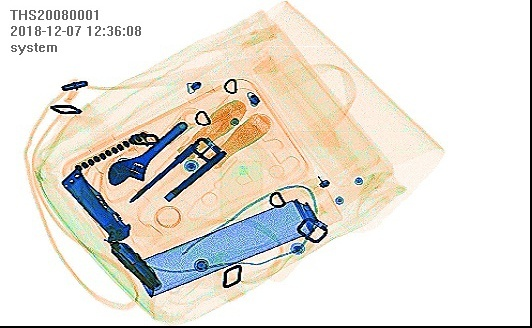knife: (59, 166, 131, 242), (106, 239, 162, 291)
pressure: (132, 186, 343, 297)
